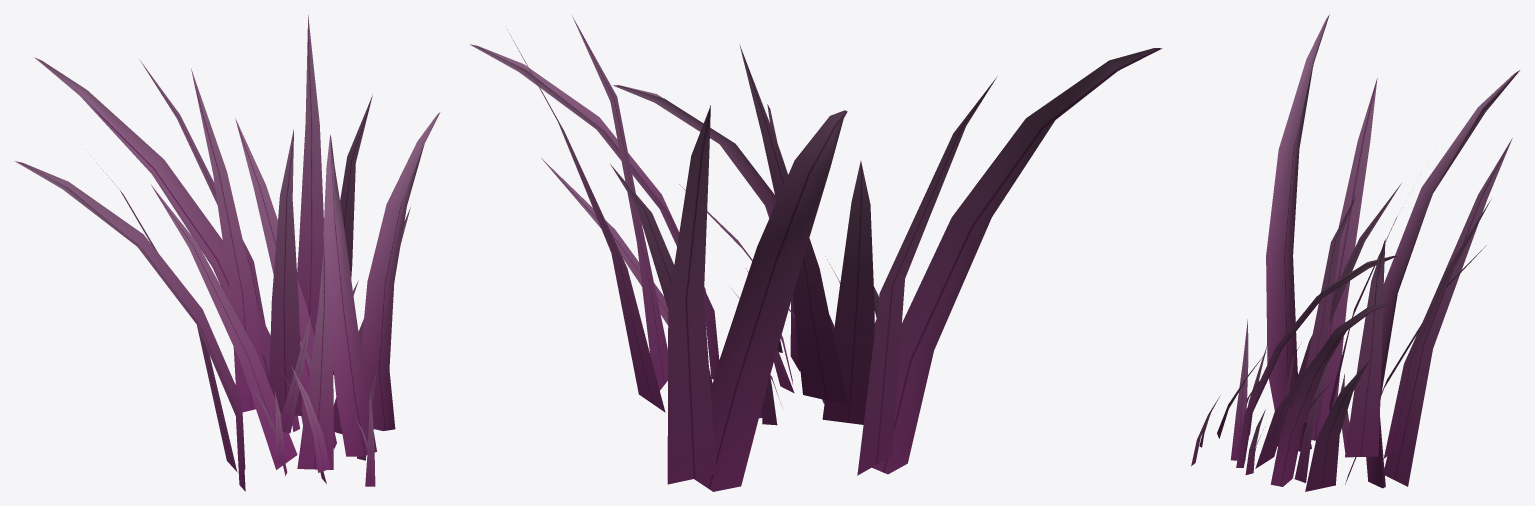
The model's file is Grass.fbx.
3 views of the same model, side by side, from view 1: azimuth 30°, elevation 25°; view 2: azimuth 150°, elevation 25°; view 3: azimuth 270°, elevation 25° (orthographic). The views are drawn at different scales.
Visible parts, largest first — view 1: pPlane18; view 2: pPlane18; view 3: pPlane18.
Boxes of the visible parts, <box> form: pPlane18: <box>14,15,440,491</box>; pPlane18: <box>470,16,1162,491</box>; pPlane18: <box>1191,14,1519,491</box>.
Size of the model in its own units: 4.54 by 3.44 by 3.01.
1 material, 1 textured.
